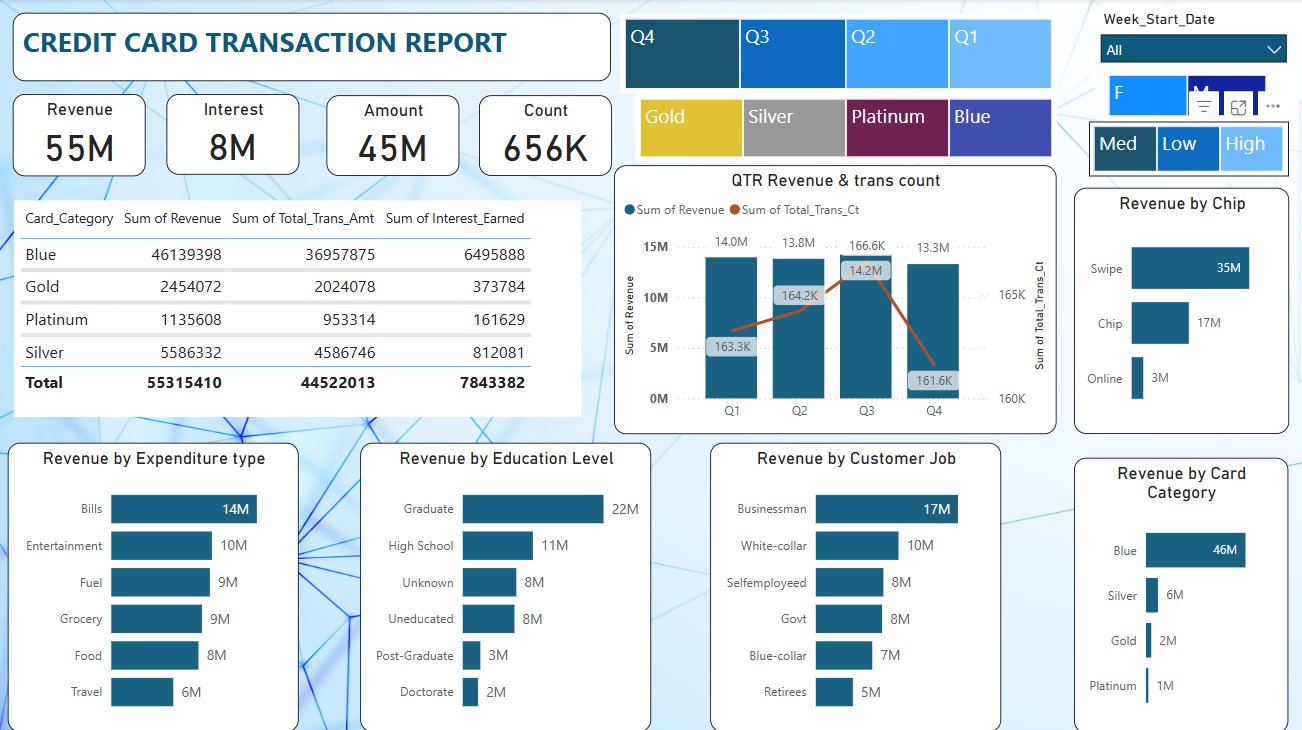

The page's visual inventory and layout, read from the dashboard file:
{"tool":"powerbi","page":{"name":"Credit Card ","canvas":[1280,720],"ordinal":0},"visuals":[{"type":"textbox","box":[13.7,13.7,587.3,67.2],"z":0},{"type":"lineStackedColumnComboChart","title":"QTR Revenue & trans count","fields":{"Category":["ccdb cc_detail.Qtr"],"Y":["Sum(ccdb cc_detail.Revenue)"],"Y2":["Sum(ccdb cc_detail.Total_Trans_Ct)"]},"box":[604.3,162.9,434.3,264.3],"z":1000},{"type":"barChart","title":"Revenue by Expenditure type","fields":{"Y":["Sum(ccdb cc_detail.Revenue)"],"Category":["ccdb cc_detail.Exp_Type"]},"box":[8.6,435.7,285.7,284.3],"z":2000},{"type":"barChart","title":"Revenue by Education Level","fields":{"Y":["Sum(ccdb cc_detail.Revenue)"],"Category":["ccdb cust_detail.Education_Level"]},"box":[354.3,435.7,285.7,284.3],"z":3000},{"type":"barChart","title":"Revenue by Customer Job","fields":{"Y":["Sum(ccdb cc_detail.Revenue)"],"Category":["ccdb cust_detail.Customer_Job"]},"box":[698.6,435.7,285.7,284.3],"z":4000},{"type":"barChart","title":"Revenue by Card Category","fields":{"Y":["Sum(ccdb cc_detail.Revenue)"],"Category":["ccdb cc_detail.Card_Category"]},"box":[1055.7,450,210,270],"z":5000},{"type":"barChart","title":"Revenue by Chip","fields":{"Y":["Sum(ccdb cc_detail.Revenue)"],"Category":["ccdb cc_detail.Use_Chip"]},"box":[1055.7,185.7,211.4,241.4],"z":6000},{"type":"tableEx","fields":{"Values":["ccdb cc_detail.Card_Category","Sum(ccdb cc_detail.Revenue)","Sum(ccdb cc_detail.Total_Trans_Amt)","Sum(ccdb cc_detail.Interest_Earned)"]},"box":[14.3,197.1,557.1,212.9],"z":7000},{"type":"card","title":"Revenue","fields":{"Values":["Sum(ccdb cc_detail.Revenue)"]},"box":[13.7,93.3,130.4,81],"z":8000},{"type":"card","title":"Interest","fields":{"Values":["Sum(ccdb cc_detail.Interest_Earned)"]},"box":[164.7,93.3,130.4,79.6],"z":9000},{"type":"card","title":"Amount","fields":{"Values":["Sum(ccdb cc_detail.Total_Trans_Amt)"]},"box":[321.1,94.7,130.4,79.6],"z":10000},{"type":"card","title":"Count","fields":{"Values":["Sum(ccdb cc_detail.Total_Trans_Ct)"]},"box":[470.7,94.7,130.4,79.6],"z":11000},{"type":"slicer","fields":{"Values":["ccdb cc_detail.Week_Start_Date"]},"box":[1071.4,5.7,202.9,81.4],"z":12000},{"type":"treemap","fields":{"Group":["ccdb cc_detail.Qtr"],"Values":["Avg(ccdb cust_detail.Client_Num)"]},"box":[610,14.3,428.6,78.6],"z":13000},{"type":"treemap","fields":{"Values":["Avg(ccdb cust_detail.Client_Num)"],"Group":["ccdb cust_detail.Gender"]},"box":[1084.3,70,164.3,50],"z":14000},{"type":"treemap","fields":{"Values":["Min(ccdb cust_detail.Client_Num)"],"Group":["ccdb cc_detail.Card_Category"]},"box":[624.3,92.9,414.3,67.1],"z":15000},{"type":"treemap","fields":{"Values":["Avg(ccdb cust_detail.Client_Num)"],"Group":["ccdb cust_detail.Income_Group"]},"box":[1070,120,195.7,54.3],"z":16000}]}

Visuals, with their boxes on the page's 1280x720 design canvas (x1, y1, x2, y2). These are canvas units, not pixel positions in the 1302x730 screenshot, which may show the page scaled, cropped or inside an application window:
textbox: {"x1": 14, "y1": 14, "x2": 601, "y2": 81}
"QTR Revenue & trans count" lineStackedColumnComboChart: {"x1": 604, "y1": 163, "x2": 1039, "y2": 427}
"Revenue by Expenditure type" barChart: {"x1": 9, "y1": 436, "x2": 294, "y2": 720}
"Revenue by Education Level" barChart: {"x1": 354, "y1": 436, "x2": 640, "y2": 720}
"Revenue by Customer Job" barChart: {"x1": 699, "y1": 436, "x2": 984, "y2": 720}
"Revenue by Card Category" barChart: {"x1": 1056, "y1": 450, "x2": 1266, "y2": 720}
"Revenue by Chip" barChart: {"x1": 1056, "y1": 186, "x2": 1267, "y2": 427}
tableEx - ccdb cc_detail.Card_Category x Sum(ccdb cc_detail.Revenue): {"x1": 14, "y1": 197, "x2": 571, "y2": 410}
"Revenue" card: {"x1": 14, "y1": 93, "x2": 144, "y2": 174}
"Interest" card: {"x1": 165, "y1": 93, "x2": 295, "y2": 173}
"Amount" card: {"x1": 321, "y1": 95, "x2": 452, "y2": 174}
"Count" card: {"x1": 471, "y1": 95, "x2": 601, "y2": 174}
slicer - ccdb cc_detail.Week_Start_Date: {"x1": 1071, "y1": 6, "x2": 1274, "y2": 87}
treemap - ccdb cc_detail.Qtr x Avg(ccdb cust_detail.Client_Num): {"x1": 610, "y1": 14, "x2": 1039, "y2": 93}
treemap - Avg(ccdb cust_detail.Client_Num) x ccdb cust_detail.Gender: {"x1": 1084, "y1": 70, "x2": 1249, "y2": 120}
treemap - Min(ccdb cust_detail.Client_Num) x ccdb cc_detail.Card_Category: {"x1": 624, "y1": 93, "x2": 1039, "y2": 160}
treemap - Avg(ccdb cust_detail.Client_Num) x ccdb cust_detail.Income_Group: {"x1": 1070, "y1": 120, "x2": 1266, "y2": 174}
